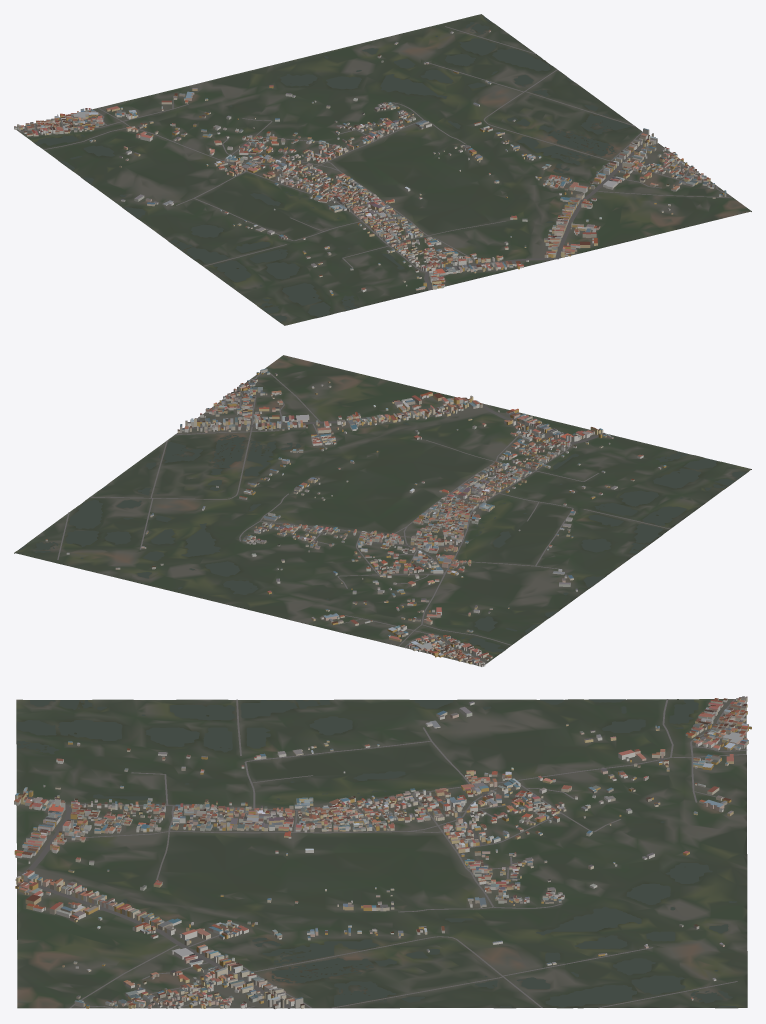
The picture shows the model from 3 angles, top to bottom: view 1: azimuth 30°, elevation 25°; view 2: azimuth 150°, elevation 25°; view 3: azimuth 270°, elevation 25°; orthographic projection. The views are drawn at different scales.
Visible parts, largest first — view 1: ground, buildings, water, roads; view 2: ground, buildings, water, roads; view 3: ground, buildings, water, roads.
Boxes of the visible parts, x1=… form: ground: x1=16, y1=14, x2=751, y2=325; buildings: x1=14, y1=30, x2=726, y2=295; water: x1=34, y1=17, x2=630, y2=321; roads: x1=19, y1=26, x2=732, y2=290; ground: x1=14, y1=355, x2=751, y2=665; buildings: x1=45, y1=368, x2=666, y2=666; water: x1=18, y1=422, x2=746, y2=652; roads: x1=57, y1=373, x2=670, y2=664; ground: x1=16, y1=699, x2=747, y2=1008; buildings: x1=14, y1=696, x2=751, y2=1009; water: x1=17, y1=699, x2=737, y2=1007; roads: x1=15, y1=699, x2=746, y2=1008.
Bounding box in the file's own units: 1411 × 27.22 × 1417.
